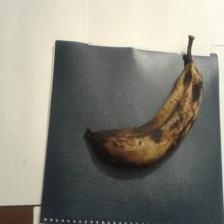Banana Rotten: (66, 43, 211, 183)
